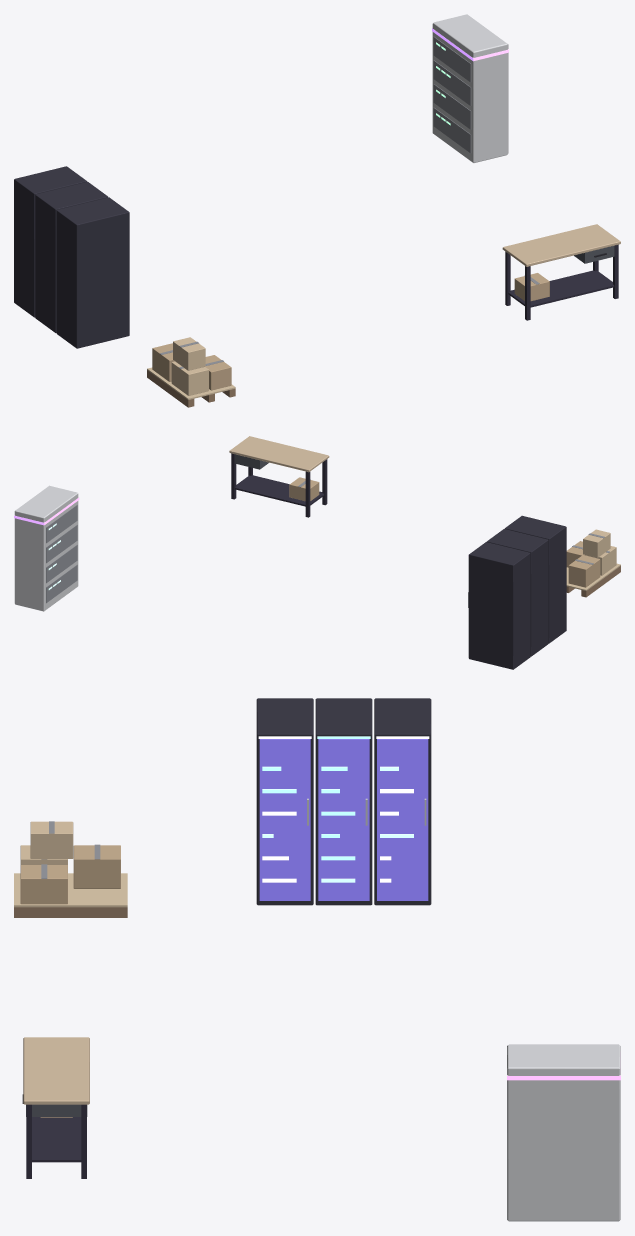
Rendered from einrichtung_halle_buehne.glb.
3 views of the same model, one above another, from view 1: azimuth 30°, elevation 25°; view 2: azimuth 150°, elevation 25°; view 3: azimuth 270°, elevation 25° (orthographic). The views are drawn at different scales.
Visible parts, largest first — view 1: einrichtung_halle_buehne; view 2: einrichtung_halle_buehne; view 3: einrichtung_halle_buehne.
Part boxes in pixels (x1=…): einrichtung_halle_buehne: x1=14, y1=14, x2=620, y2=407; einrichtung_halle_buehne: x1=14, y1=436, x2=620, y2=669; einrichtung_halle_buehne: x1=14, y1=698, x2=620, y2=1221.
Size of the model in its own units: 8.8 by 2 by 6.4.
